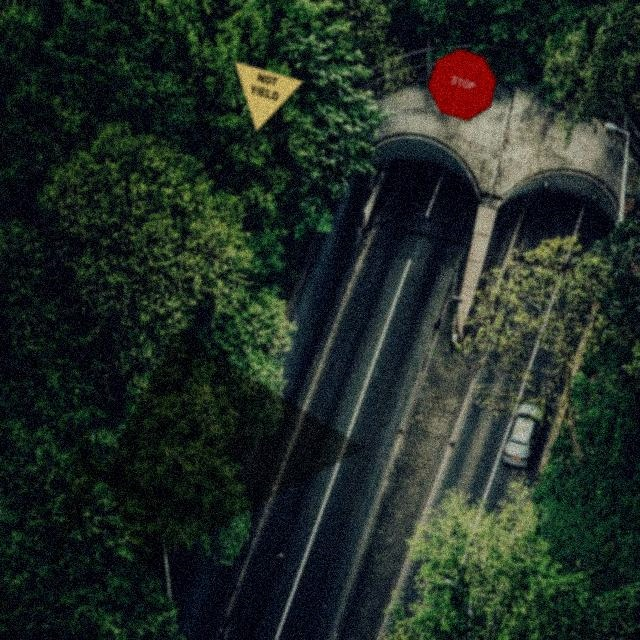NOT_YIELD: (233, 60, 305, 133)
STOP: (427, 48, 497, 121)
